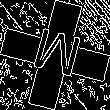M_S: (26, 25, 84, 85)
